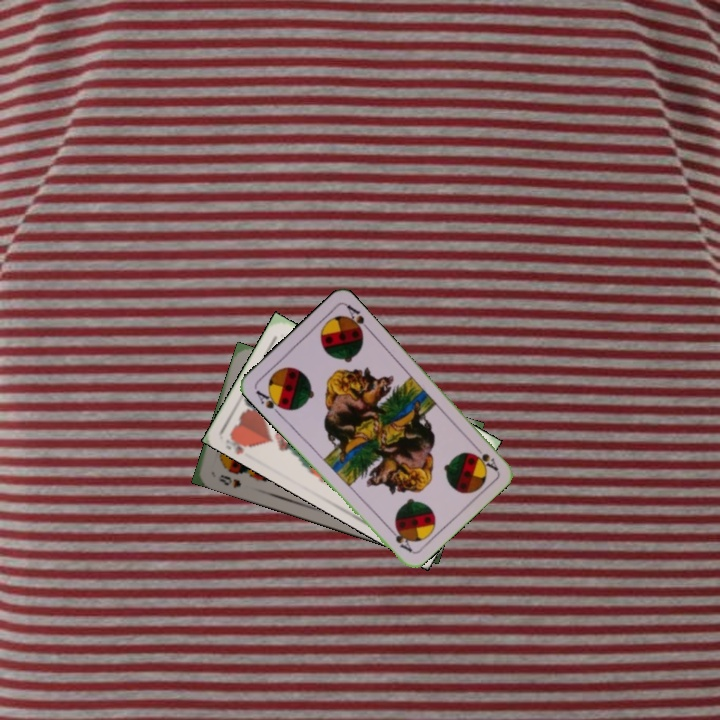HO: (221, 430, 257, 457)
S8: (214, 470, 244, 490)
SA: (252, 386, 288, 418), (468, 440, 501, 474)
